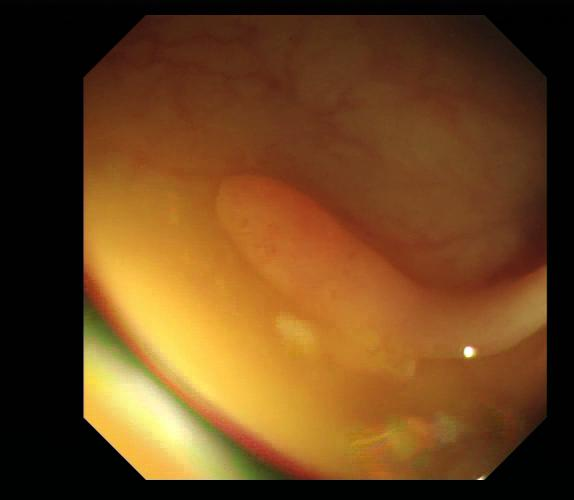polyp: (214, 169, 408, 343)
